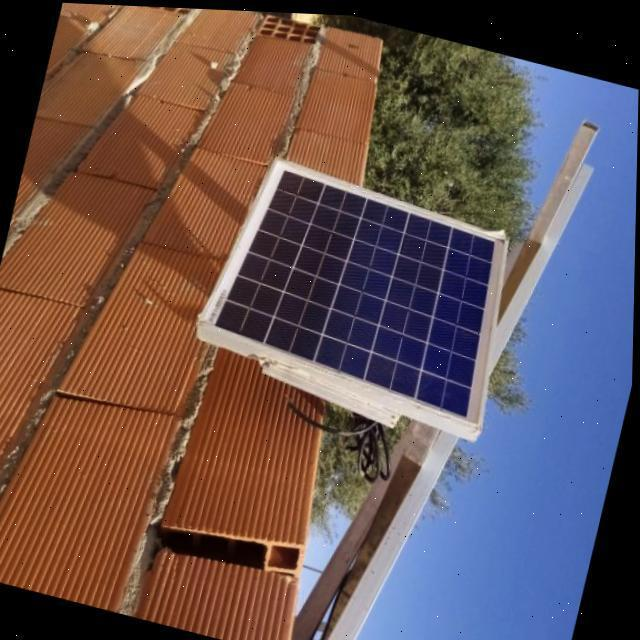Normal Solar Panel: (190, 142, 529, 426)
